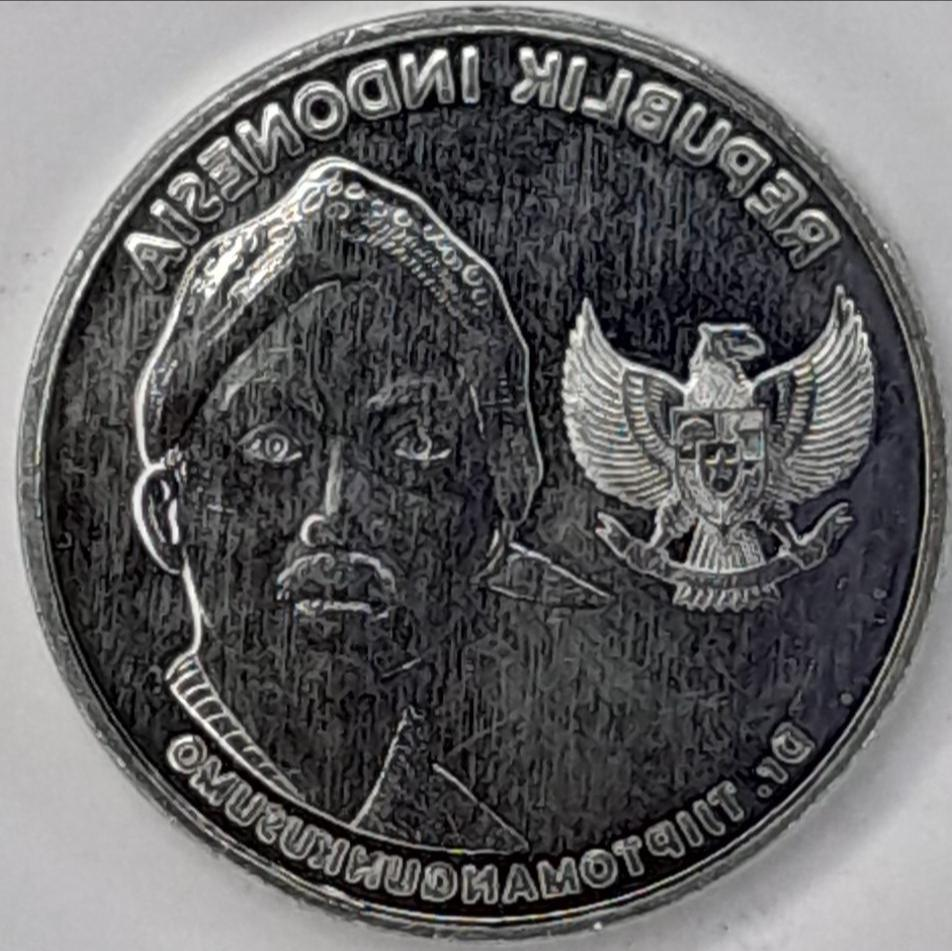coin_200_e2016: (0, 17, 952, 951)
